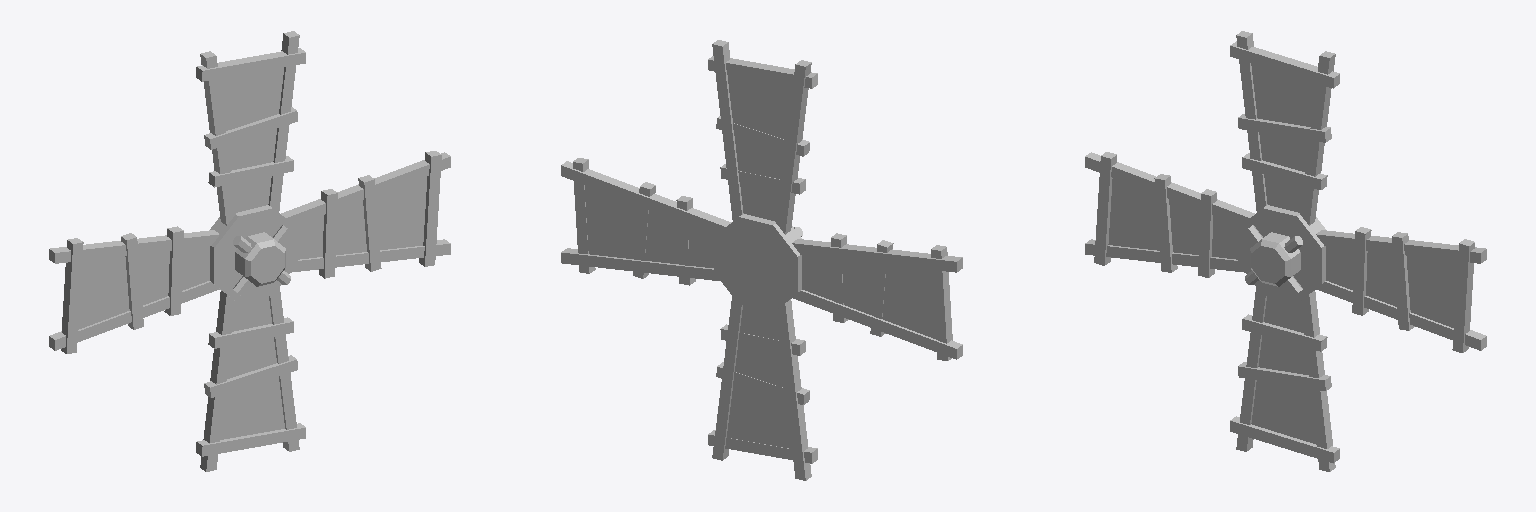
File: building_windmill_red_building_windmill_top_red_building_windmill_top_fan_red.obj
3 renders of one model, left to right at view 1: azimuth 30°, elevation 25°; view 2: azimuth 150°, elevation 25°; view 3: azimuth 330°, elevation 25°, orthographic.
Parts seen in each view (by area): view 1: building_windmill_top_fan_red; view 2: building_windmill_top_fan_red; view 3: building_windmill_top_fan_red.
Part boxes in pixels (x1,y1,x2,y2): building_windmill_top_fan_red: (49, 31, 450, 471); building_windmill_top_fan_red: (561, 40, 962, 480); building_windmill_top_fan_red: (1085, 31, 1486, 471).
Size of the model in its own units: 1 by 1 by 0.1054.